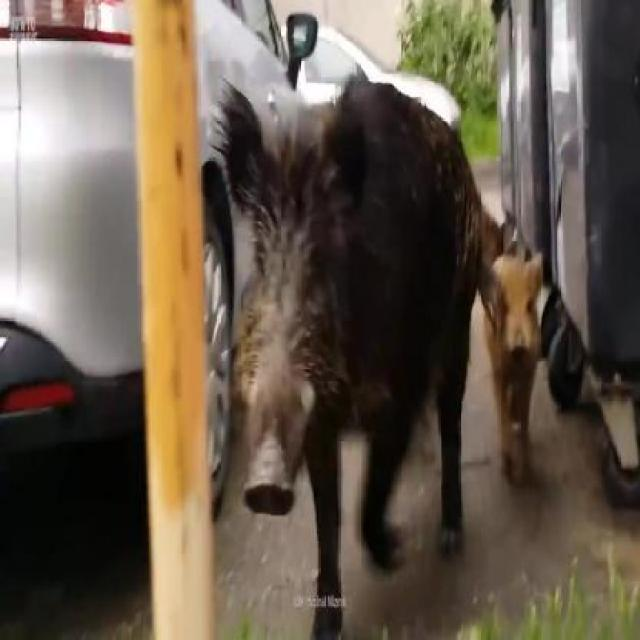pig: (206, 110, 497, 618)
